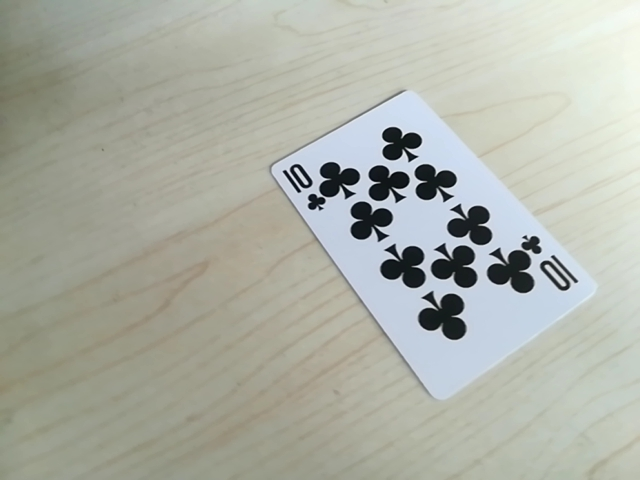mh 10: (526, 233, 580, 294), (281, 164, 326, 206)
